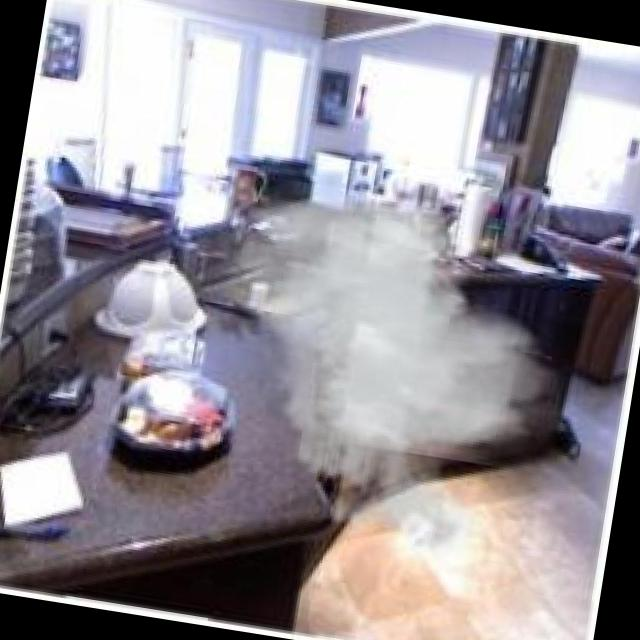Smoke: (172, 168, 589, 580)
